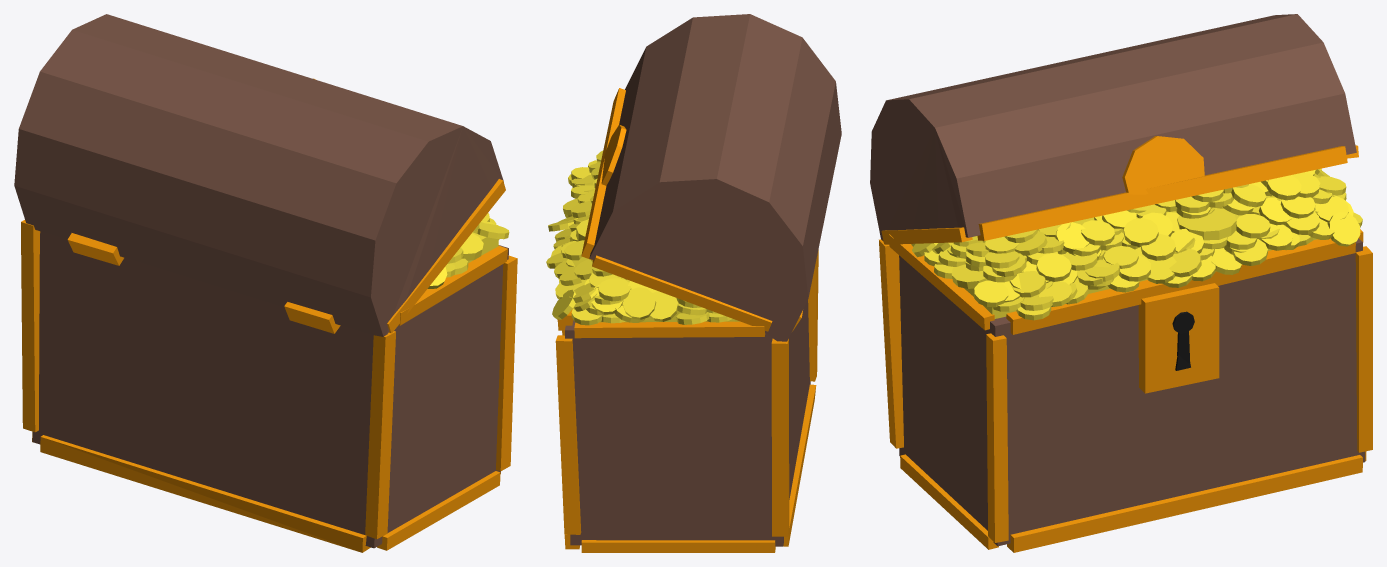
The model's file is building-chest.glb.
3 renders of one model, left to right at view 1: azimuth 30°, elevation 25°; view 2: azimuth 150°, elevation 25°; view 3: azimuth 270°, elevation 25°, orthographic. The views are drawn at different scales.
Parts seen in each view (by area): view 1: group944139164, group1673624899, group1176336403, group1253408431, group2130799938, group1188779229, group929752709, group2141862034, group833255169; view 2: group944139164, group1673624899, group2130799938, group1135518375, group621290532, group1111637101, group1596027011, group1849654143, group1176336403, group1253408431, group476825830, group608746827 (+4 smaller); view 3: group1673624899, group944139164, group1948885995, group89601079, group1849654143, group1276403759, group1188779229, group1253408431, group1135518375, group608746827, group833255169, group929752709 (+16 smaller).
Part boxes in pixels (<box>): group944139164: <box>14,14,503,336</box>; group1673624899: <box>32,231,508,548</box>; group1176336403: <box>40,435,370,552</box>; group1253408431: <box>365,331,395,539</box>; group2130799938: <box>21,220,40,432</box>; group1188779229: <box>496,255,517,471</box>; group929752709: <box>377,471,500,550</box>; group2141862034: <box>387,179,505,333</box>; group833255169: <box>399,245,507,325</box>; group944139164: <box>589,14,841,341</box>; group1673624899: <box>565,300,810,546</box>; group2130799938: <box>771,338,789,536</box>; group1135518375: <box>555,335,581,534</box>; group621290532: <box>574,321,765,338</box>; group1111637101: <box>581,540,775,552</box>; group1596027011: <box>592,255,772,331</box>; group1849654143: <box>581,88,625,260</box>; group1176336403: <box>783,384,816,546</box>; group1253408431: <box>808,249,818,381</box>; group476825830: <box>622,287,656,319</box>; group608746827: <box>601,124,626,185</box>; group1673624899: <box>899,238,1365,546</box>; group944139164: <box>870,14,1356,241</box>; group1948885995: <box>1138,283,1219,393</box>; group89601079: <box>1007,455,1362,552</box>; group1849654143: <box>977,146,1347,240</box>; group1276403759: <box>1006,238,1355,334</box>; group1188779229: <box>986,333,1008,542</box>; group1253408431: <box>879,239,903,448</box>; group1135518375: <box>1355,246,1372,452</box>; group608746827: <box>1122,136,1204,194</box>; group833255169: <box>888,234,994,330</box>; group929752709: <box>900,454,998,549</box>.
Size of the model in its own units: 0.3611 by 0.3813 by 0.4293.
